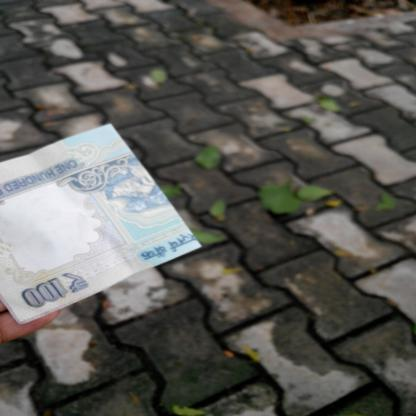Old100Back: (0, 122, 205, 324)
